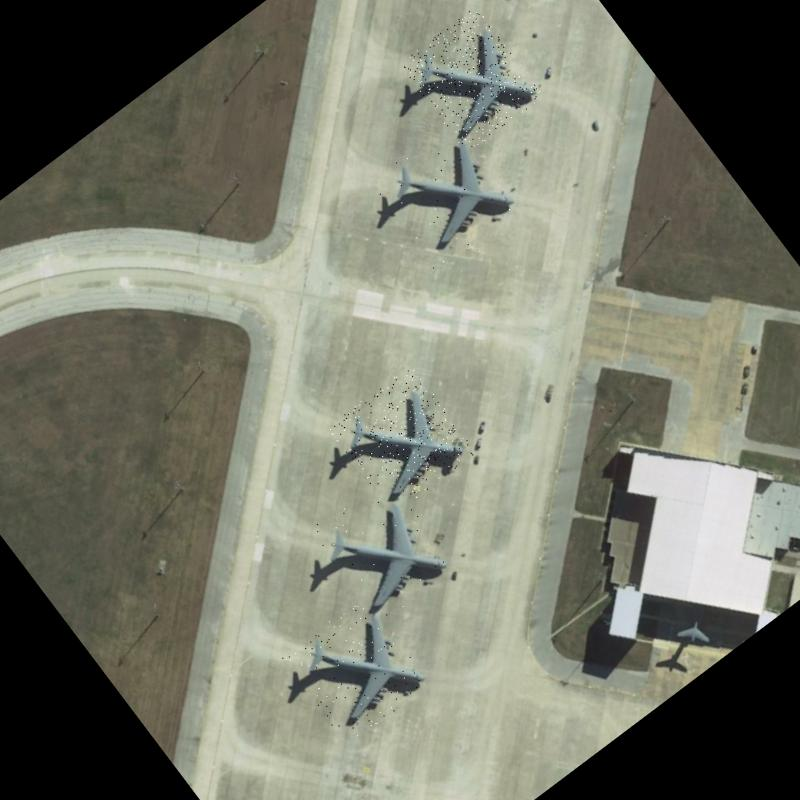A4: (303, 471, 458, 629), (368, 118, 522, 272), (326, 363, 477, 515), (281, 595, 431, 746), (399, 6, 544, 154)
